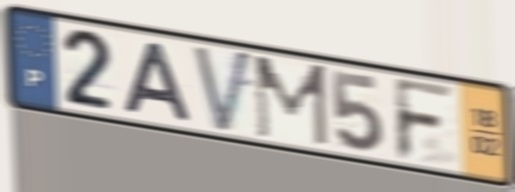2: (61, 28, 122, 114)
5: (328, 67, 386, 154)
A: (121, 39, 196, 125)
F: (391, 75, 459, 165)
M: (251, 53, 332, 150)
V: (190, 42, 256, 138)
